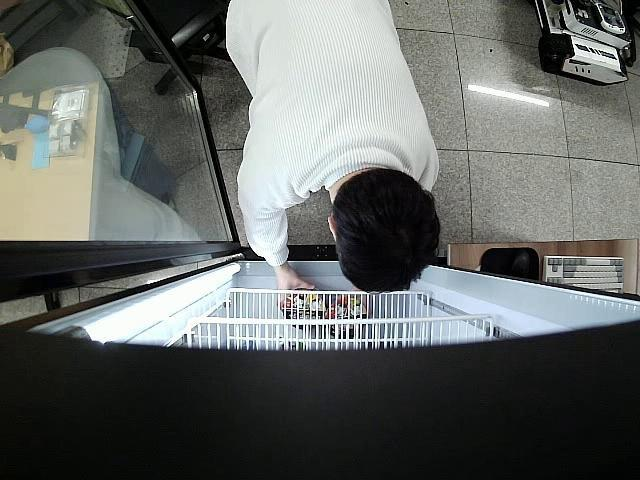07_buldak_L: (278, 290, 326, 329)
